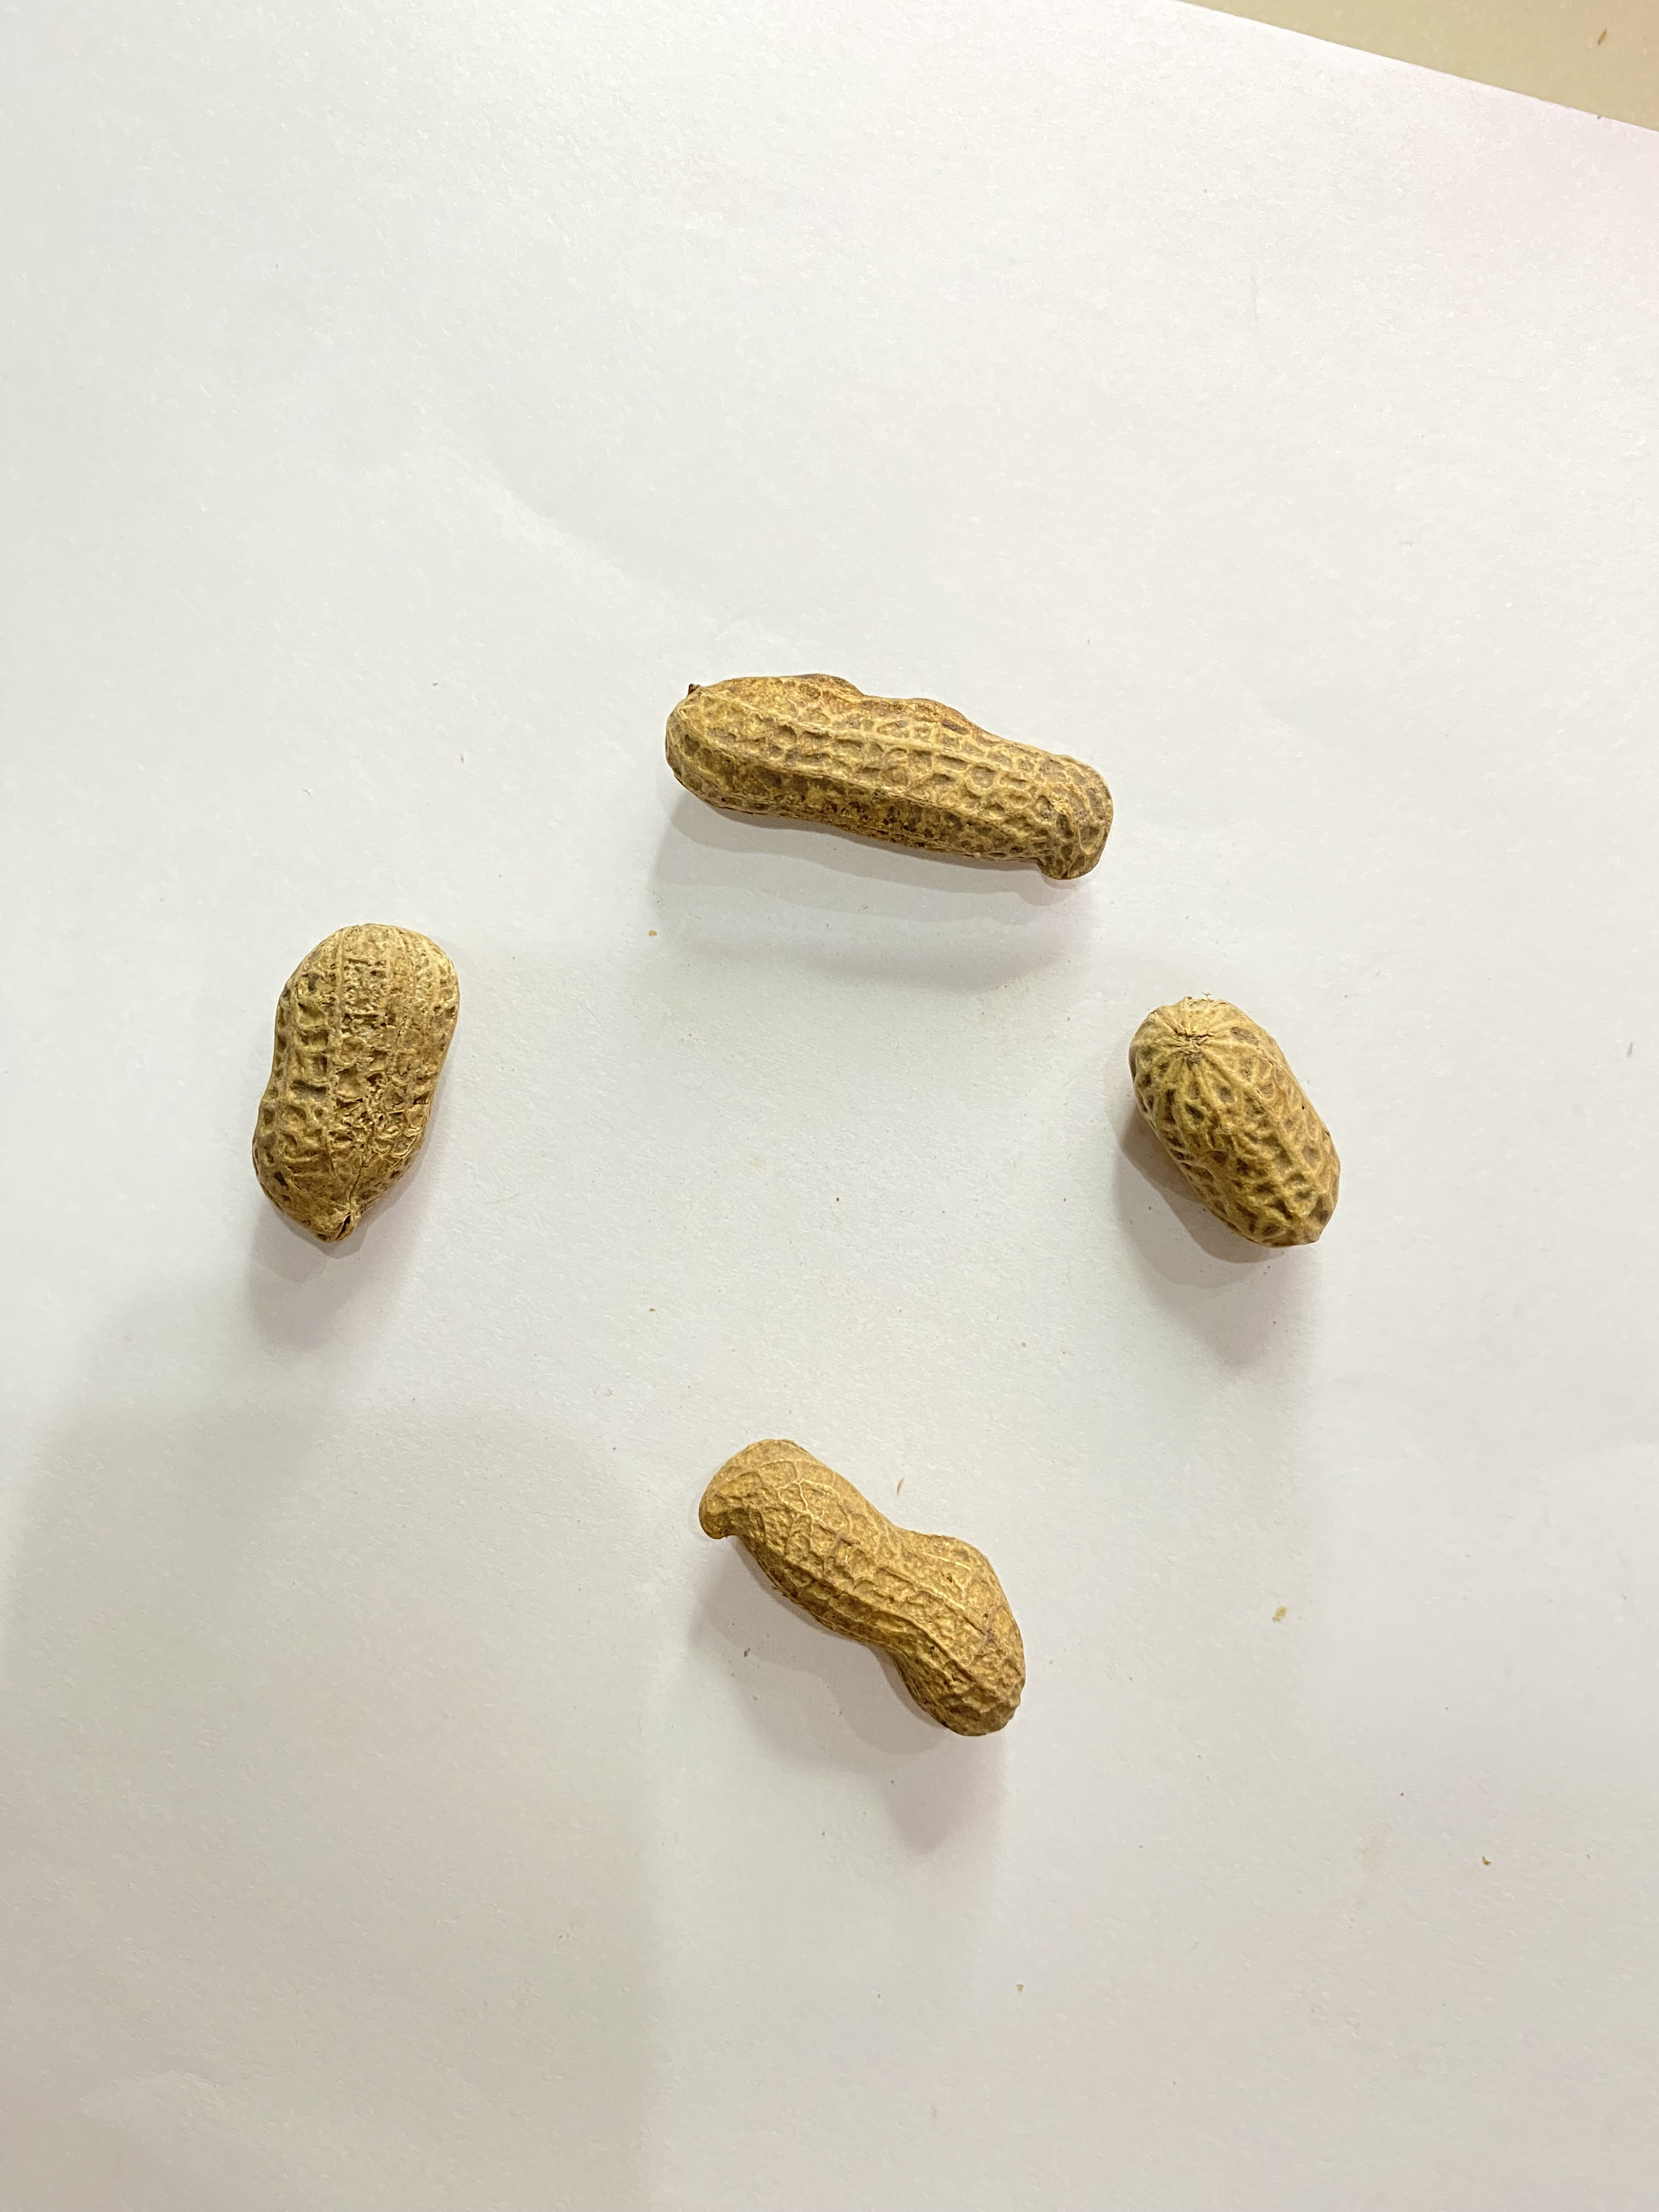kacang1: (1119, 993, 1356, 1247)
kacang2: (694, 1411, 1044, 1754), (244, 911, 467, 1263)
kacang3: (594, 678, 1194, 880)
